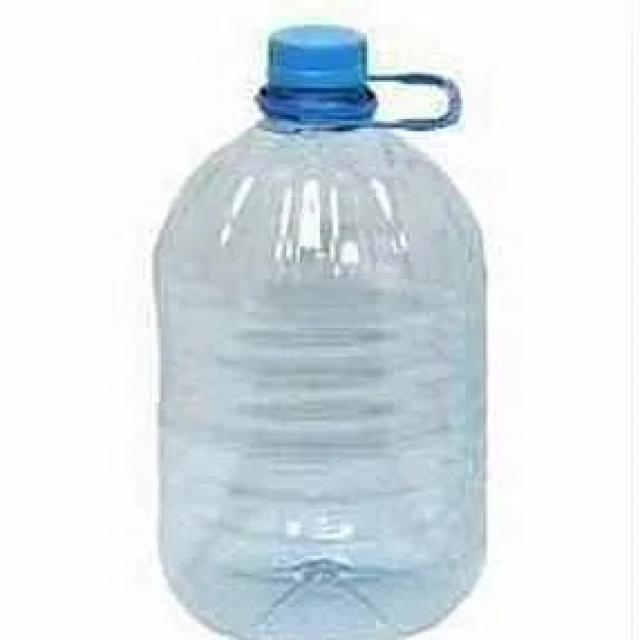blue: (155, 115, 489, 638)
